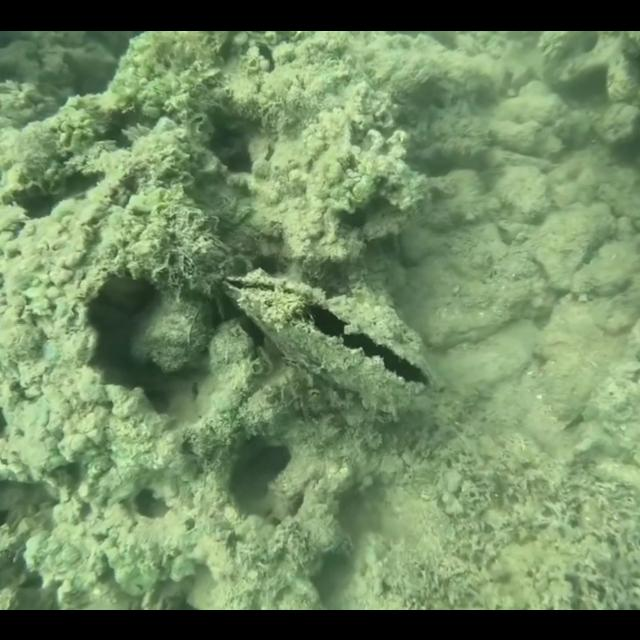Oyster-Open: (218, 267, 437, 415)
